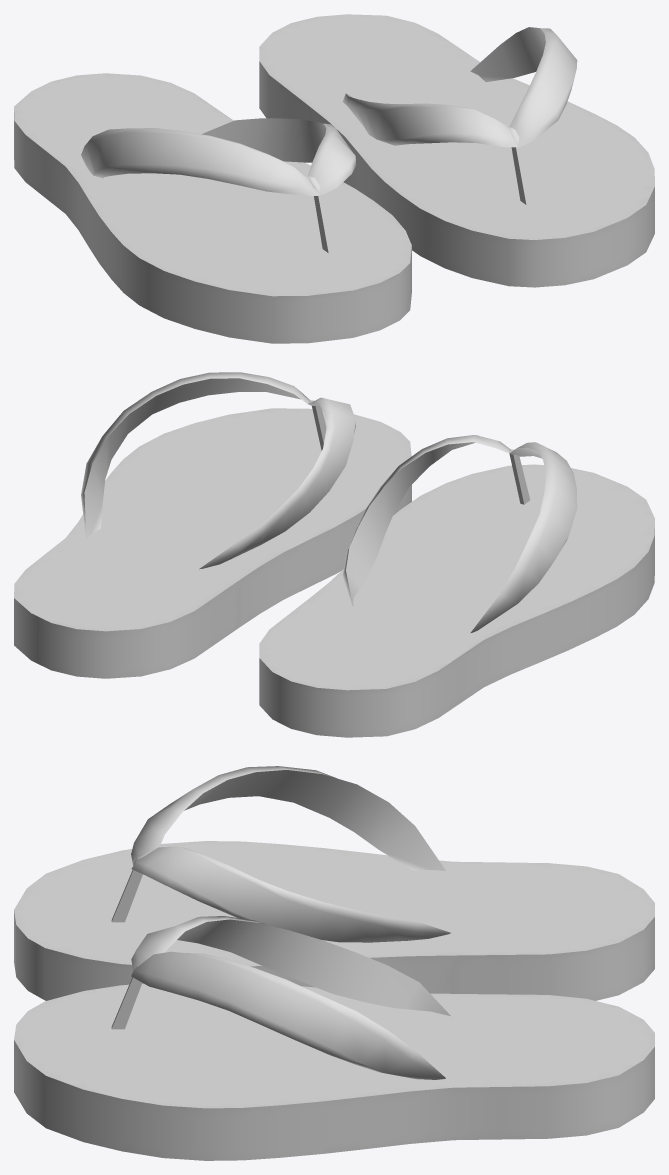
File: p0_ftw0006_00_ftw00.gltf
3 renders of one model, top to bottom at view 1: azimuth 30°, elevation 25°; view 2: azimuth 150°, elevation 25°; view 3: azimuth 270°, elevation 25°, orthographic. The views are drawn at different scales.
Parts seen in each view (by area): view 1: ftw00_shoes_mesh_shape:shoes; view 2: ftw00_shoes_mesh_shape:shoes; view 3: ftw00_shoes_mesh_shape:shoes.
Part boxes in pixels (x1=…): ftw00_shoes_mesh_shape:shoes: x1=14, y1=14, x2=654, y2=343; ftw00_shoes_mesh_shape:shoes: x1=14, y1=372, x2=654, y2=737; ftw00_shoes_mesh_shape:shoes: x1=14, y1=766, x2=654, y2=1160.
Size of what is drawn, in the model's own units: 0.2394 by 0.0666 by 0.2425.
Materials: 1 (1 with a texture image).
